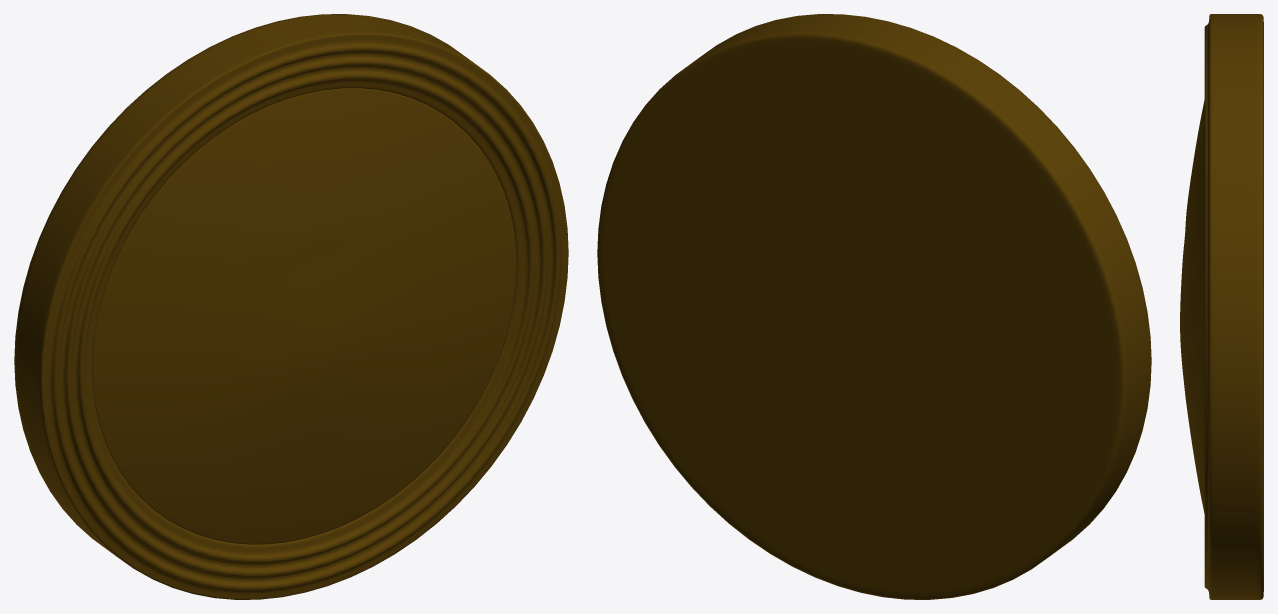
Rendered from clock.glb.
3 renders of one model, left to right at view 1: azimuth 30°, elevation 25°; view 2: azimuth 150°, elevation 25°; view 3: azimuth 270°, elevation 25°, orthographic. The views are drawn at different scales.
Visible parts, largest first — view 1: clock; view 2: clock; view 3: clock.
Boxes of the visible parts, left/top/right/bottom form: clock: left=14, top=14, right=568, bottom=599; clock: left=597, top=14, right=1151, bottom=599; clock: left=1180, top=14, right=1263, bottom=599.
Size of the model in its own units: 589 by 589 by 84.37.
